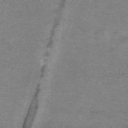finishing roll printing: (45, 0, 67, 48), (21, 82, 42, 128), (38, 50, 50, 80)
